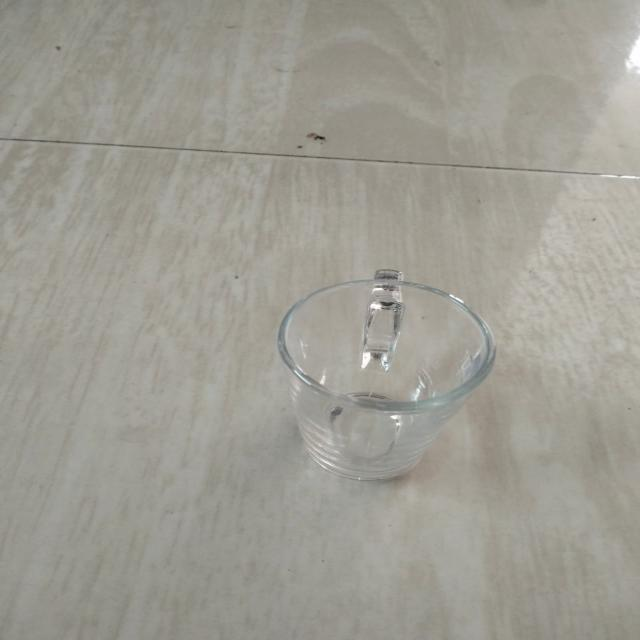glass-VX4N: (278, 266, 493, 481)
